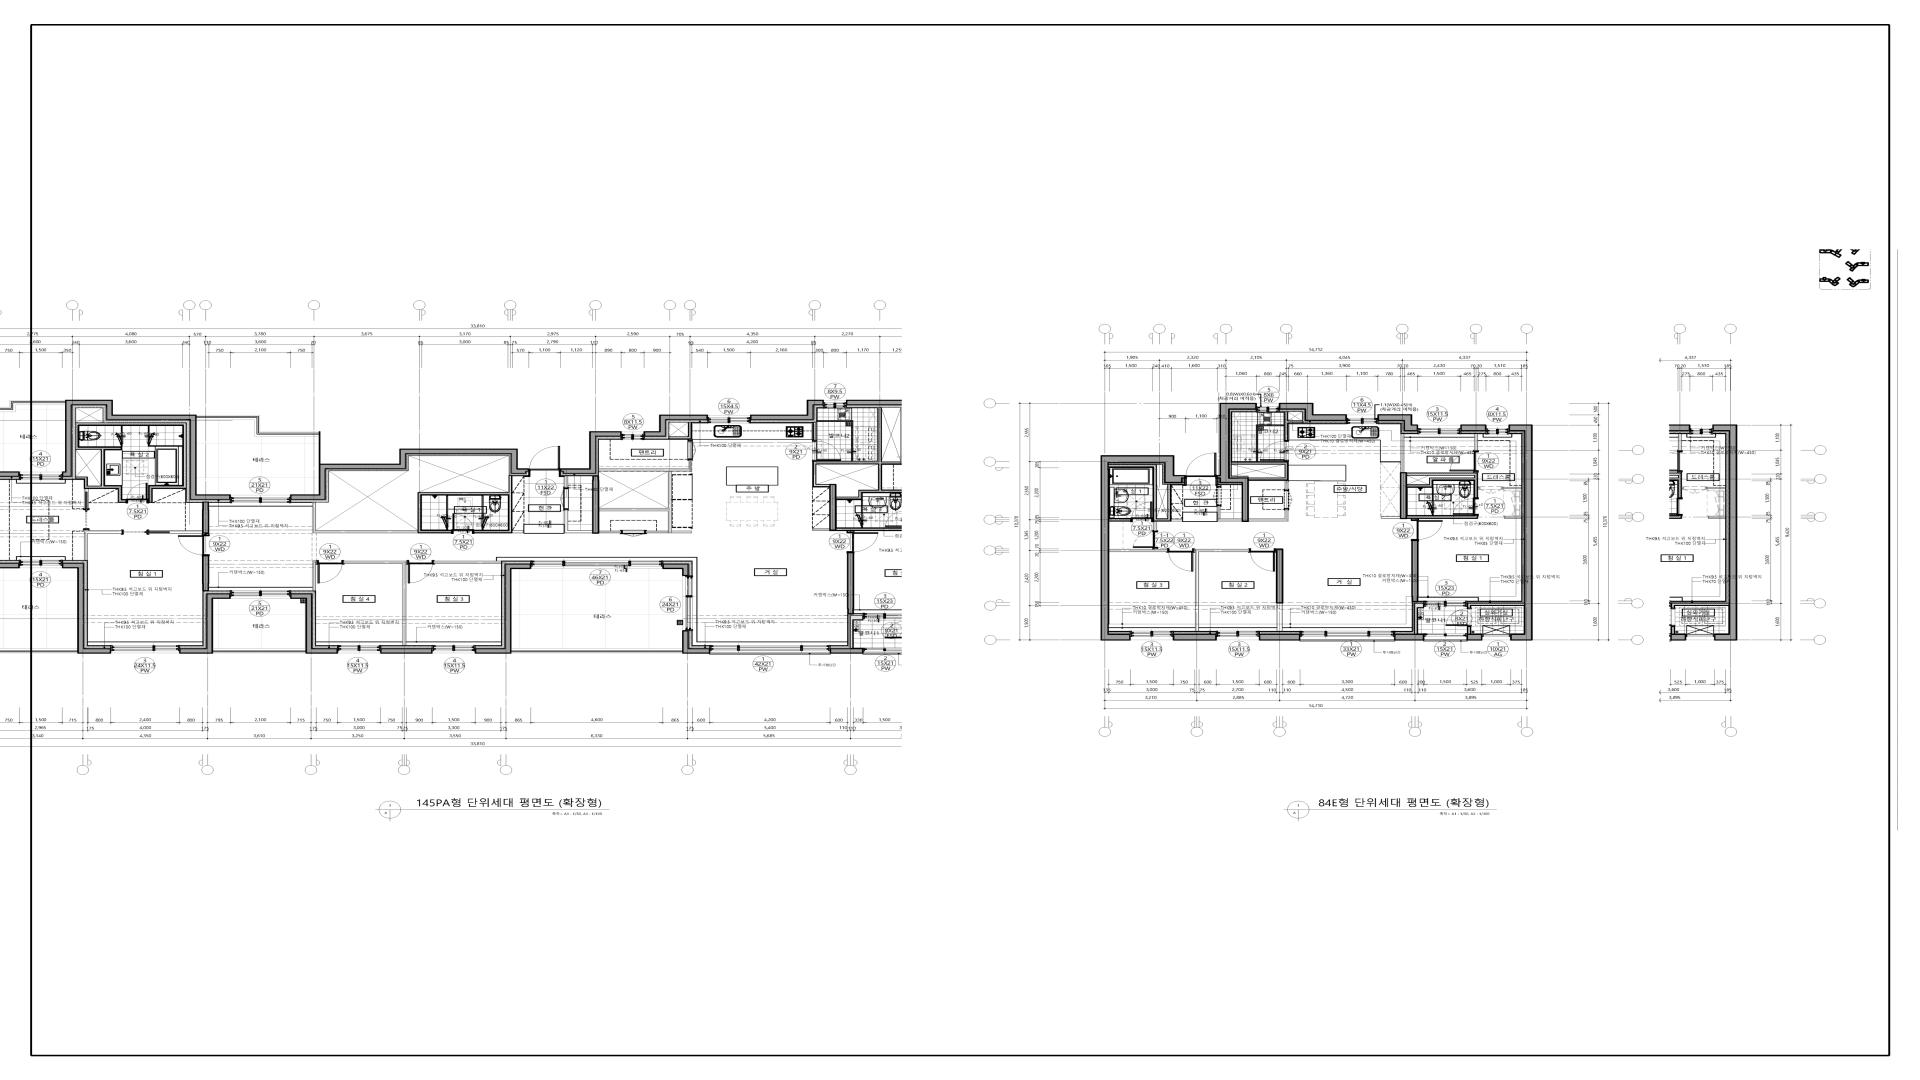door: (1185, 452, 1217, 485), (530, 446, 560, 472), (847, 531, 880, 554), (178, 534, 210, 556), (1411, 520, 1443, 541), (1167, 549, 1195, 572), (316, 560, 344, 584), (406, 560, 434, 584), (1249, 549, 1276, 572), (1449, 451, 1480, 472), (812, 440, 841, 462), (1259, 442, 1290, 462), (916, 436, 942, 460), (451, 513, 475, 534), (885, 621, 911, 640), (1445, 608, 1472, 626), (1130, 501, 1153, 522), (1453, 497, 1478, 516), (885, 510, 911, 527), (127, 483, 148, 504), (1133, 531, 1158, 549), (911, 498, 936, 506), (687, 440, 696, 460), (1478, 487, 1503, 493), (621, 530, 646, 537), (1284, 491, 1292, 509), (123, 530, 149, 535), (83, 509, 90, 530)
wall: (62, 400, 231, 500), (1101, 455, 1185, 641), (313, 475, 524, 534), (290, 448, 530, 500), (812, 407, 911, 510), (75, 422, 187, 502), (599, 460, 692, 533), (196, 415, 320, 464), (942, 456, 969, 654), (343, 560, 406, 645), (475, 563, 531, 654), (1509, 425, 1532, 641), (1217, 402, 1257, 522), (1195, 549, 1249, 632), (62, 563, 111, 654), (847, 400, 916, 462), (1109, 464, 1183, 522), (179, 593, 231, 654), (290, 593, 339, 654), (911, 407, 968, 456), (560, 431, 622, 475), (1407, 472, 1478, 497), (750, 400, 824, 421), (1232, 463, 1288, 489), (644, 414, 708, 436), (1279, 402, 1348, 421), (84, 530, 123, 560), (682, 630, 711, 654), (0, 401, 65, 411), (1378, 414, 1418, 431), (512, 649, 682, 653), (564, 510, 592, 533), (1284, 411, 1303, 440), (1411, 541, 1419, 601), (847, 554, 855, 615), (1249, 509, 1288, 521), (592, 476, 600, 534), (669, 422, 692, 440), (851, 616, 864, 647), (829, 484, 837, 531), (1276, 549, 1283, 604), (662, 563, 690, 576), (214, 649, 306, 653), (1217, 506, 1242, 521), (380, 647, 433, 654), (1414, 603, 1424, 634), (1400, 472, 1407, 520), (0, 649, 78, 653), (1466, 603, 1524, 608), (1172, 634, 1217, 641), (837, 527, 910, 531), (906, 616, 960, 621), (1407, 516, 1478, 520), (202, 556, 210, 591), (1259, 634, 1300, 641), (434, 560, 501, 564), (202, 501, 210, 534), (1109, 549, 1167, 553), (829, 647, 864, 654), (149, 530, 202, 534), (1394, 634, 1424, 641), (1276, 604, 1283, 632), (1461, 425, 1486, 431), (1400, 434, 1404, 472), (1466, 633, 1482, 641), (313, 560, 316, 591), (812, 422, 818, 440), (1109, 518, 1131, 522), (906, 649, 922, 654), (84, 489, 88, 509), (1474, 434, 1478, 451), (906, 638, 911, 649), (1503, 487, 1522, 489), (564, 476, 568, 488), (940, 529, 957, 531), (1153, 522, 1156, 531), (1466, 626, 1472, 633), (600, 531, 621, 533), (936, 500, 957, 501), (1381, 517, 1400, 518), (1505, 517, 1522, 518), (1217, 485, 1221, 487)
window: (711, 645, 829, 654), (531, 560, 662, 568), (1300, 630, 1394, 641), (683, 576, 694, 630), (231, 495, 290, 504), (111, 645, 179, 653), (231, 591, 290, 599), (1418, 425, 1461, 434), (1217, 630, 1259, 640), (1130, 630, 1172, 640), (20, 559, 62, 568), (1424, 633, 1466, 641), (708, 415, 750, 423), (20, 472, 62, 480), (338, 645, 380, 653), (433, 645, 475, 653), (1348, 415, 1378, 425), (864, 647, 906, 654), (864, 613, 906, 620), (1424, 600, 1466, 607), (1486, 425, 1509, 435), (1257, 404, 1279, 413), (824, 401, 847, 409), (622, 433, 644, 440), (1482, 634, 1510, 640), (922, 647, 949, 653)
